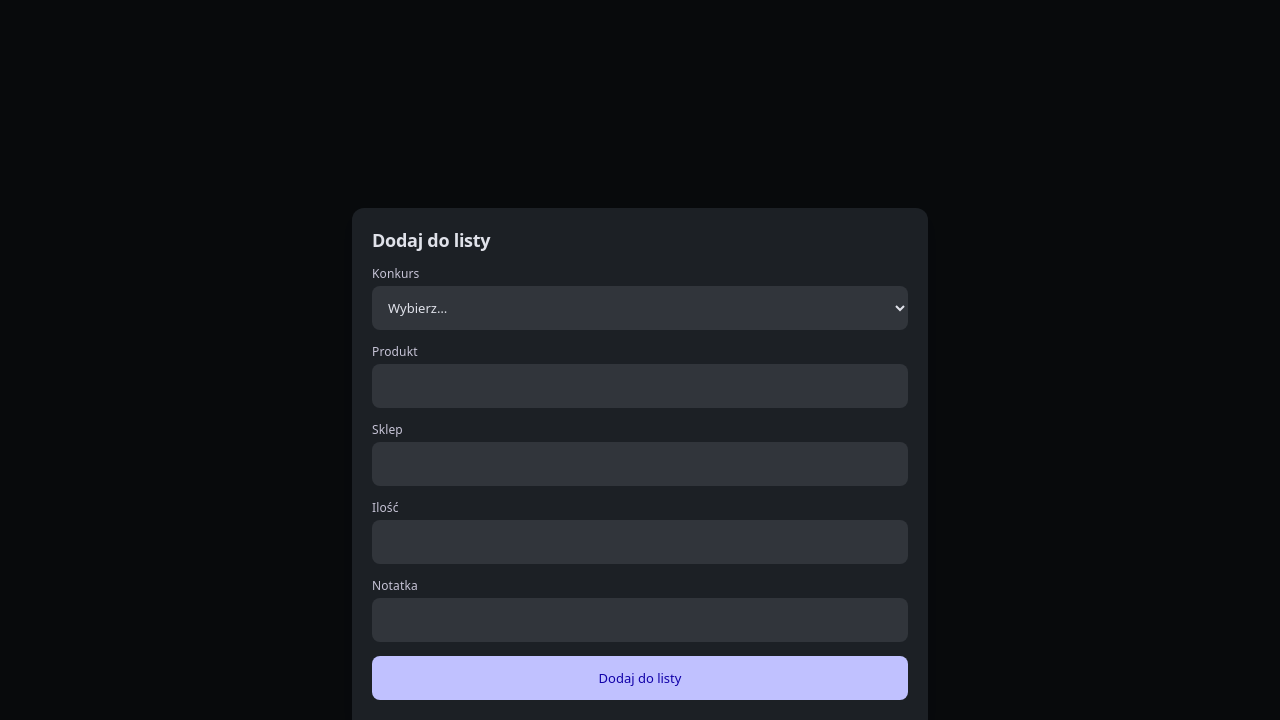
QuickAddSheet › requires product
Select "Loteria" in the dropdown labelled "Konkurs" at (640, 308), box [372,286,908,330]
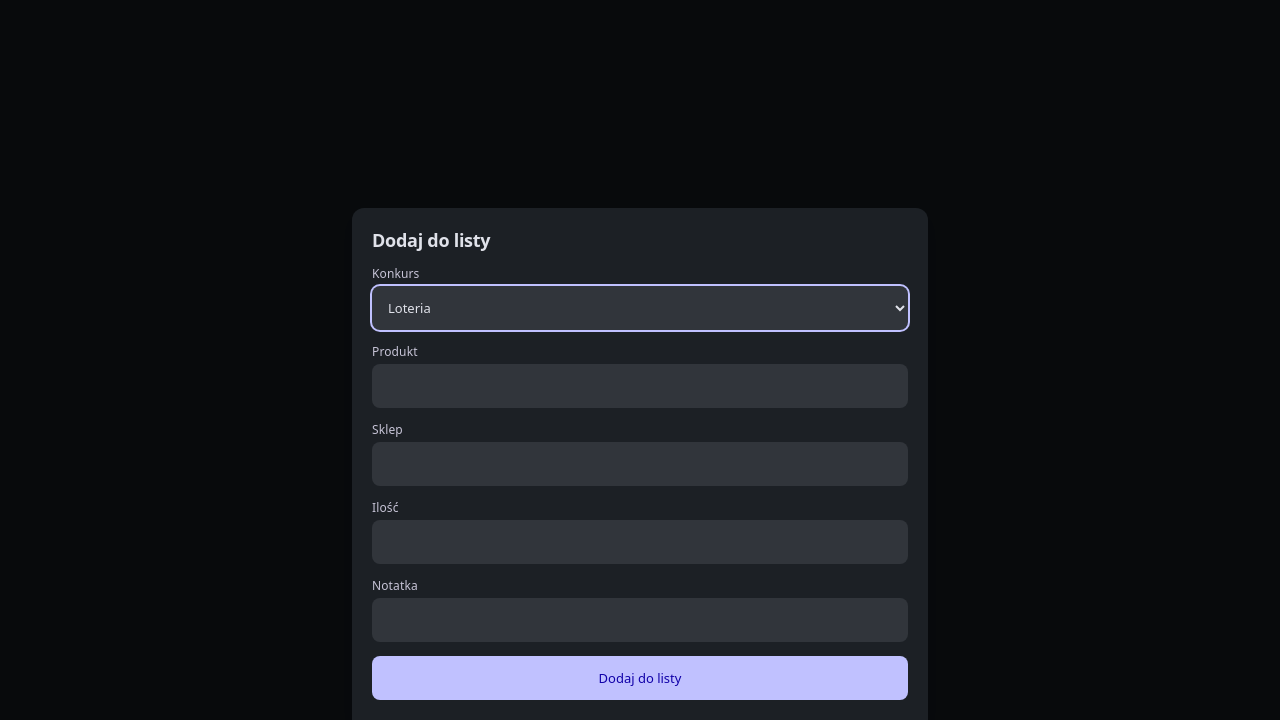
Click the button "Dodaj do listy" at (640, 678), box [372,656,908,700]
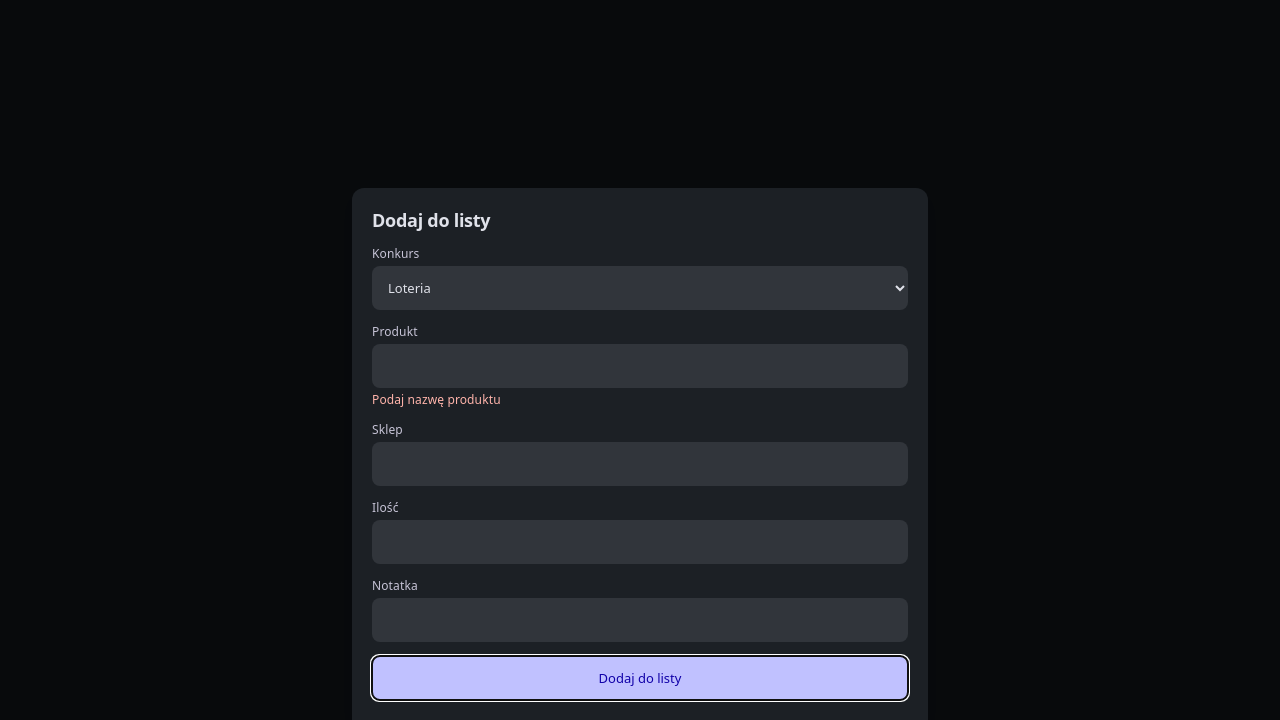
Result: the text "Podaj nazwę produktu" is shown at [372,391,501,408]
